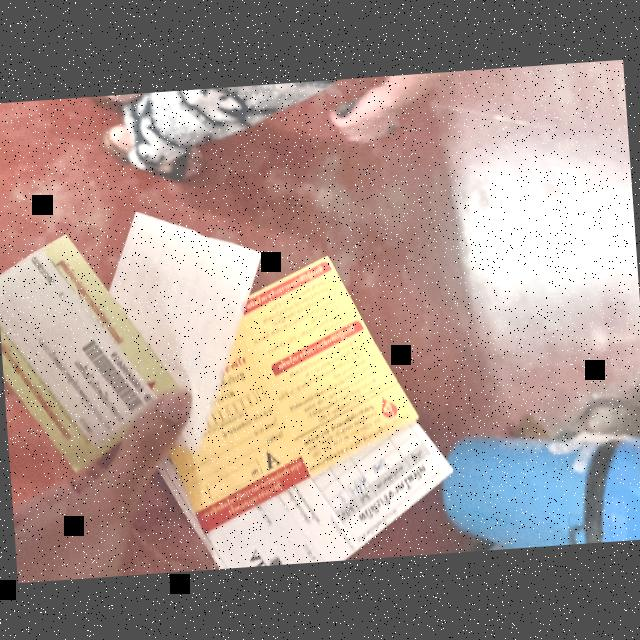scrap_paper: (162, 244, 430, 534), (160, 415, 466, 571), (0, 230, 191, 467), (104, 199, 274, 453)
